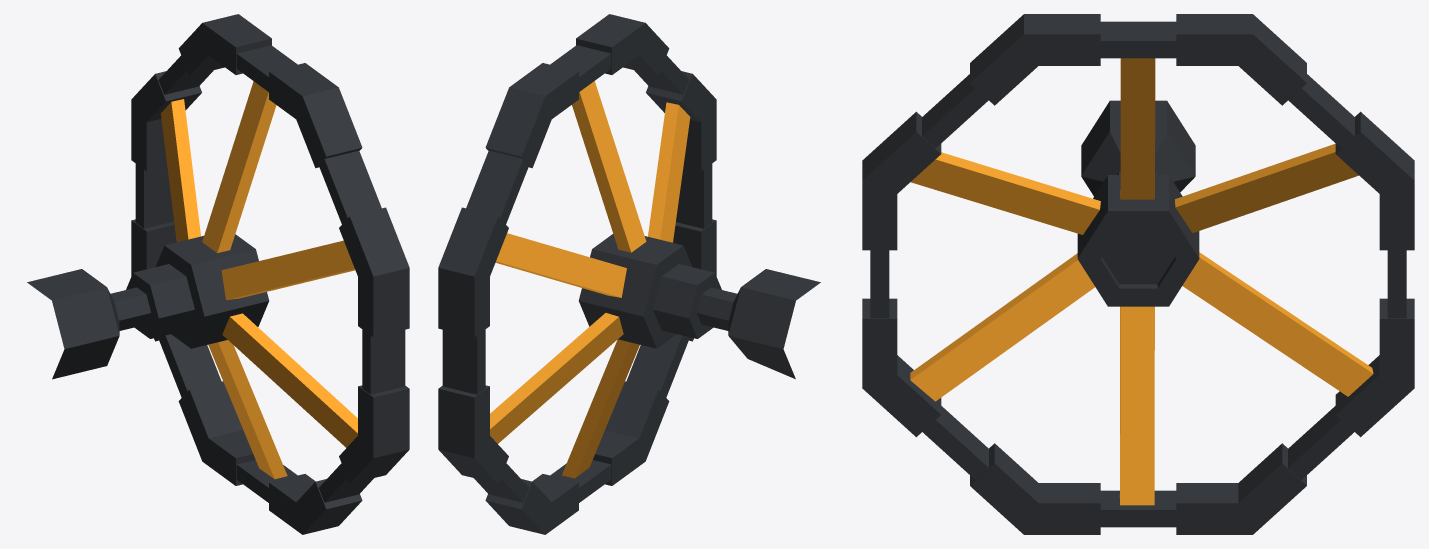
The model's file is SM_Valve.glb.
3 renders of one model, left to right at view 1: azimuth 30°, elevation 25°; view 2: azimuth 150°, elevation 25°; view 3: azimuth 270°, elevation 25°, orthographic. The views are drawn at different scales.
Visible parts, largest first — view 1: SM_Valve; view 2: SM_Valve; view 3: SM_Valve.
Part boxes in pixels (box(x1,y1,x2,y2)): SM_Valve: box(27, 14, 409, 534); SM_Valve: box(438, 14, 820, 534); SM_Valve: box(862, 14, 1414, 534).
Bounding box in the file's own units: 0.3589 × 0.6035 × 0.6035.
1 material, 1 textured.
